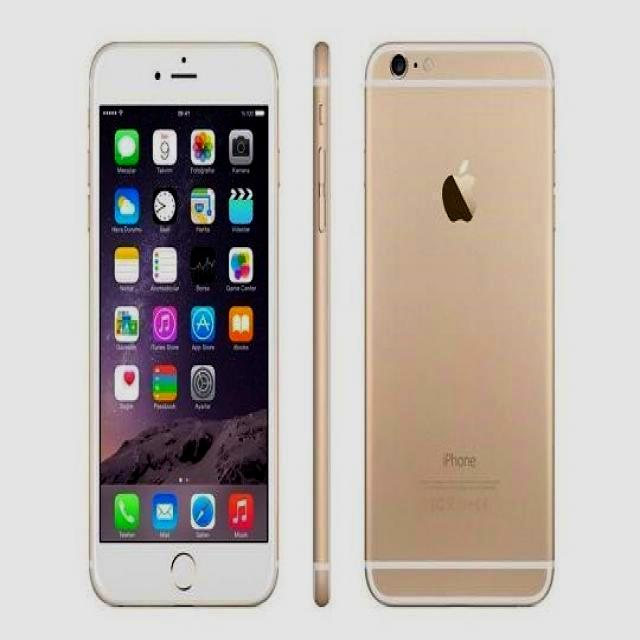phone: (82, 36, 286, 612), (358, 33, 561, 611), (308, 37, 337, 613)
